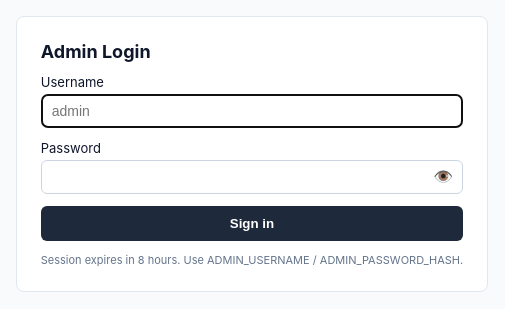
Test case: Login › toggle shows and hides password
The width and height of the screenshot is (505, 309).
In the password field labelled "Password 👁️": (252, 177) 41,160 -> 463,194, type "mySecret"
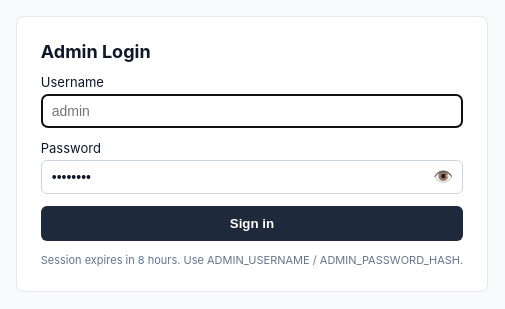
Click the button named "Show password": (443, 177) 429,165 -> 457,189
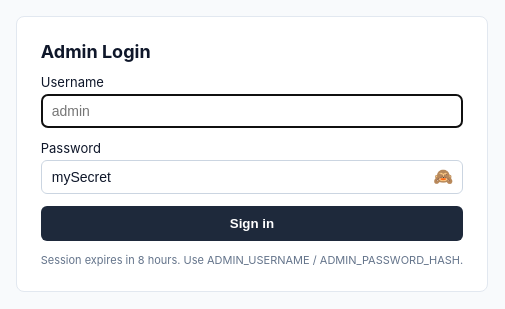
Result: the button named "Hide password" is shown
Click the button named "Hide password": (443, 177) 429,165 -> 457,189
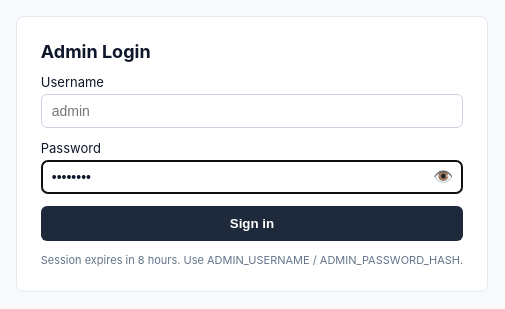
Result: the button named "Show password" is shown at 429,165 -> 457,189
